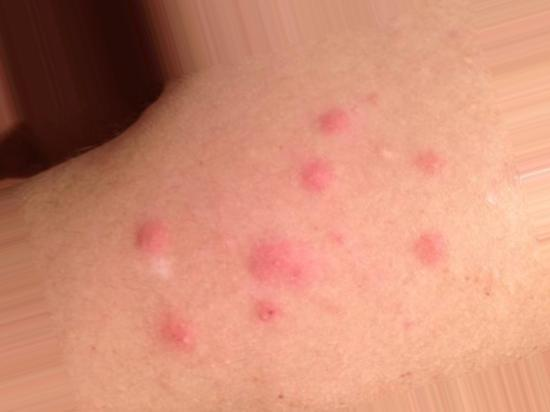Fleas: (249, 238, 318, 287), (133, 218, 175, 280), (152, 310, 203, 357), (296, 157, 335, 196), (412, 231, 446, 268), (252, 297, 281, 325), (320, 109, 349, 134)
